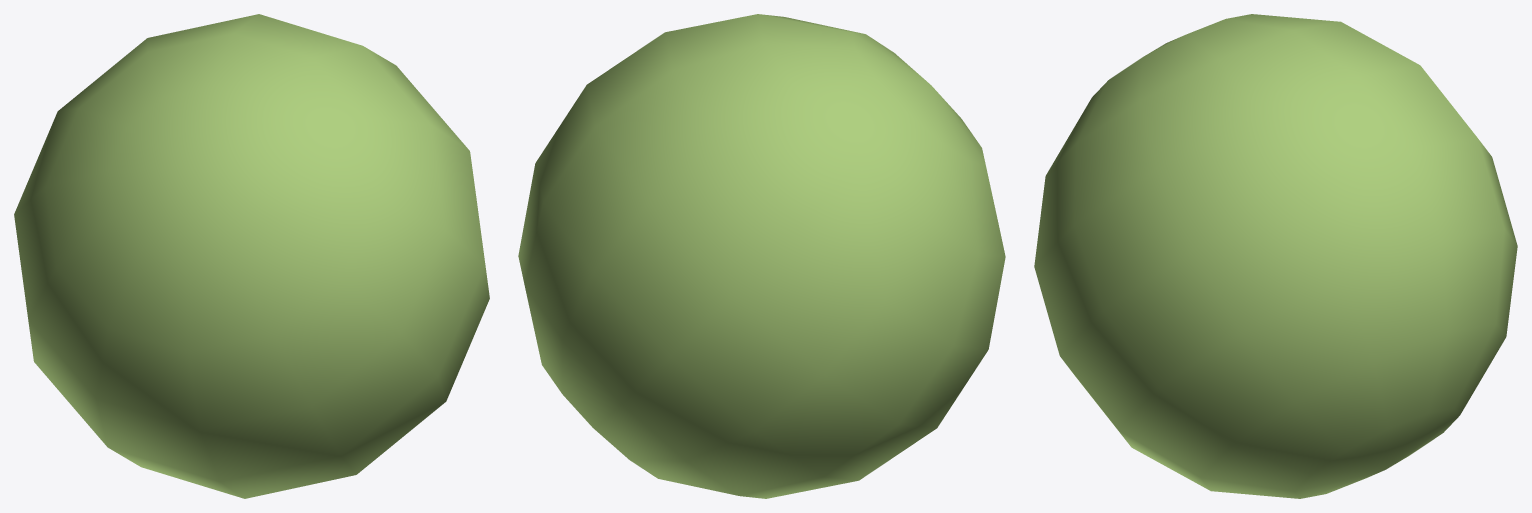
Rendered from node-of-ligamentum-arteriosum.glb.
The picture shows the model from 3 angles, left to right: view 1: azimuth 30°, elevation 25°; view 2: azimuth 150°, elevation 25°; view 3: azimuth 270°, elevation 25°; orthographic projection.
Parts seen in each view (by area): view 1: Node of ligamentum arteriosum; view 2: Node of ligamentum arteriosum; view 3: Node of ligamentum arteriosum.
Boxes of the visible parts, x1,y1,x2,y2 form: Node of ligamentum arteriosum: (14, 14, 489, 498); Node of ligamentum arteriosum: (518, 14, 1005, 498); Node of ligamentum arteriosum: (1034, 14, 1517, 498).
Bounding box in the file's own units: 0.00256 × 0.00259 × 0.00257.
